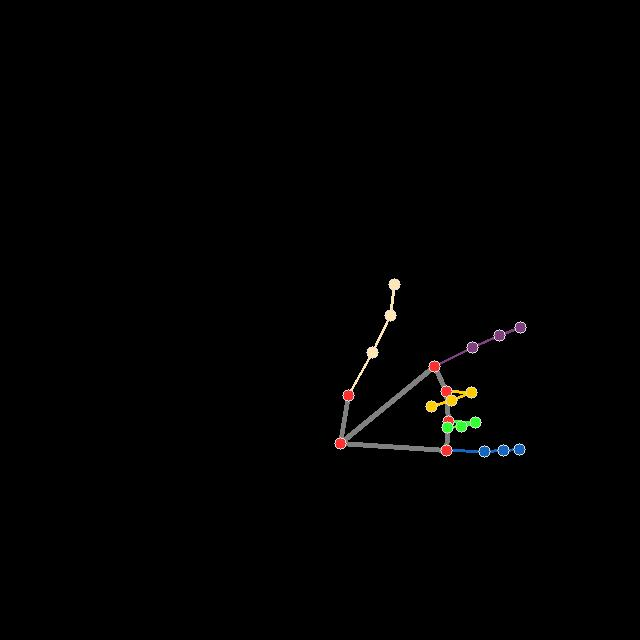spiderman: (333, 276, 526, 458)
